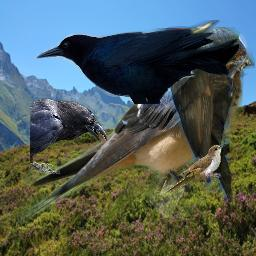Crow: (35, 28, 239, 104), (30, 98, 107, 174)
Cuckoo: (162, 143, 226, 194)
Swallow: (17, 27, 255, 227)
Woodpecker: (142, 20, 249, 202)
